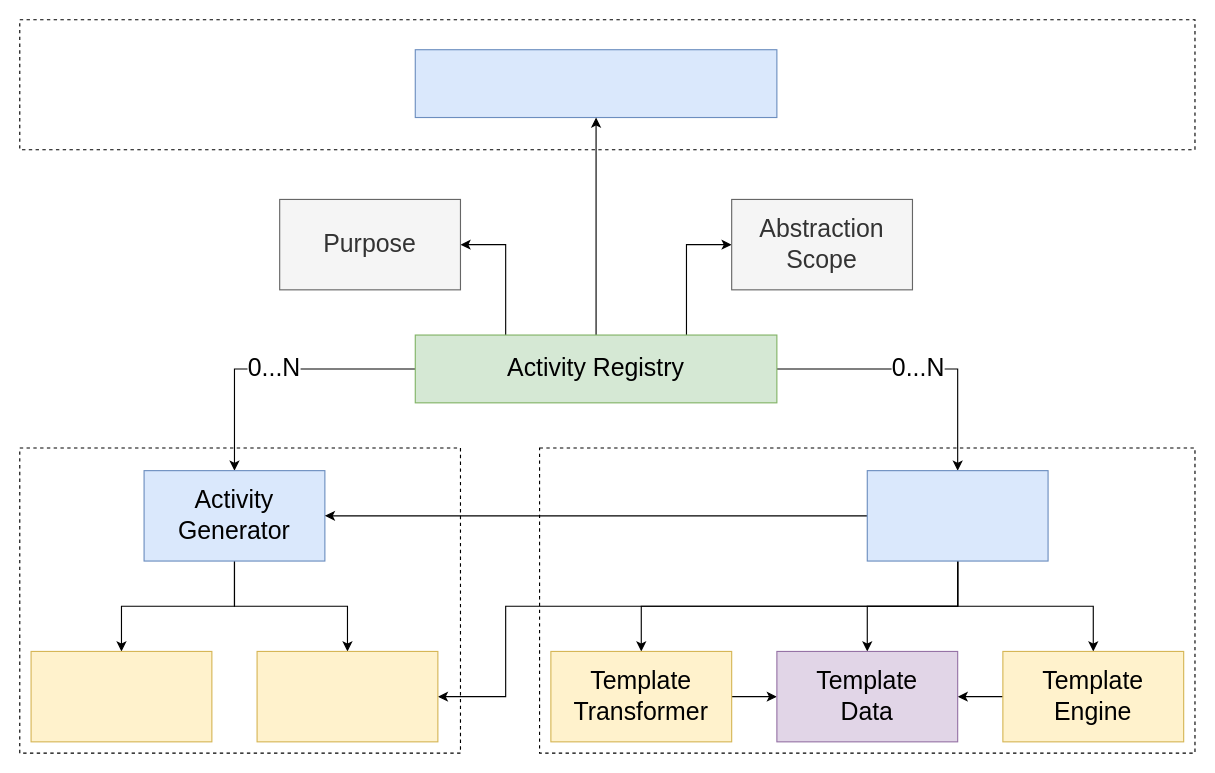
Some shapes in this 1215 by 773 pixel diagram are drawn without their labels. The centre of each missing label's shape, as x and y in pixels:
Activity Template Generator: point (957, 515)
Exporter: point (347, 696)
Transformer: point (121, 696)
Unit (Template) Generator: point (595, 83)
